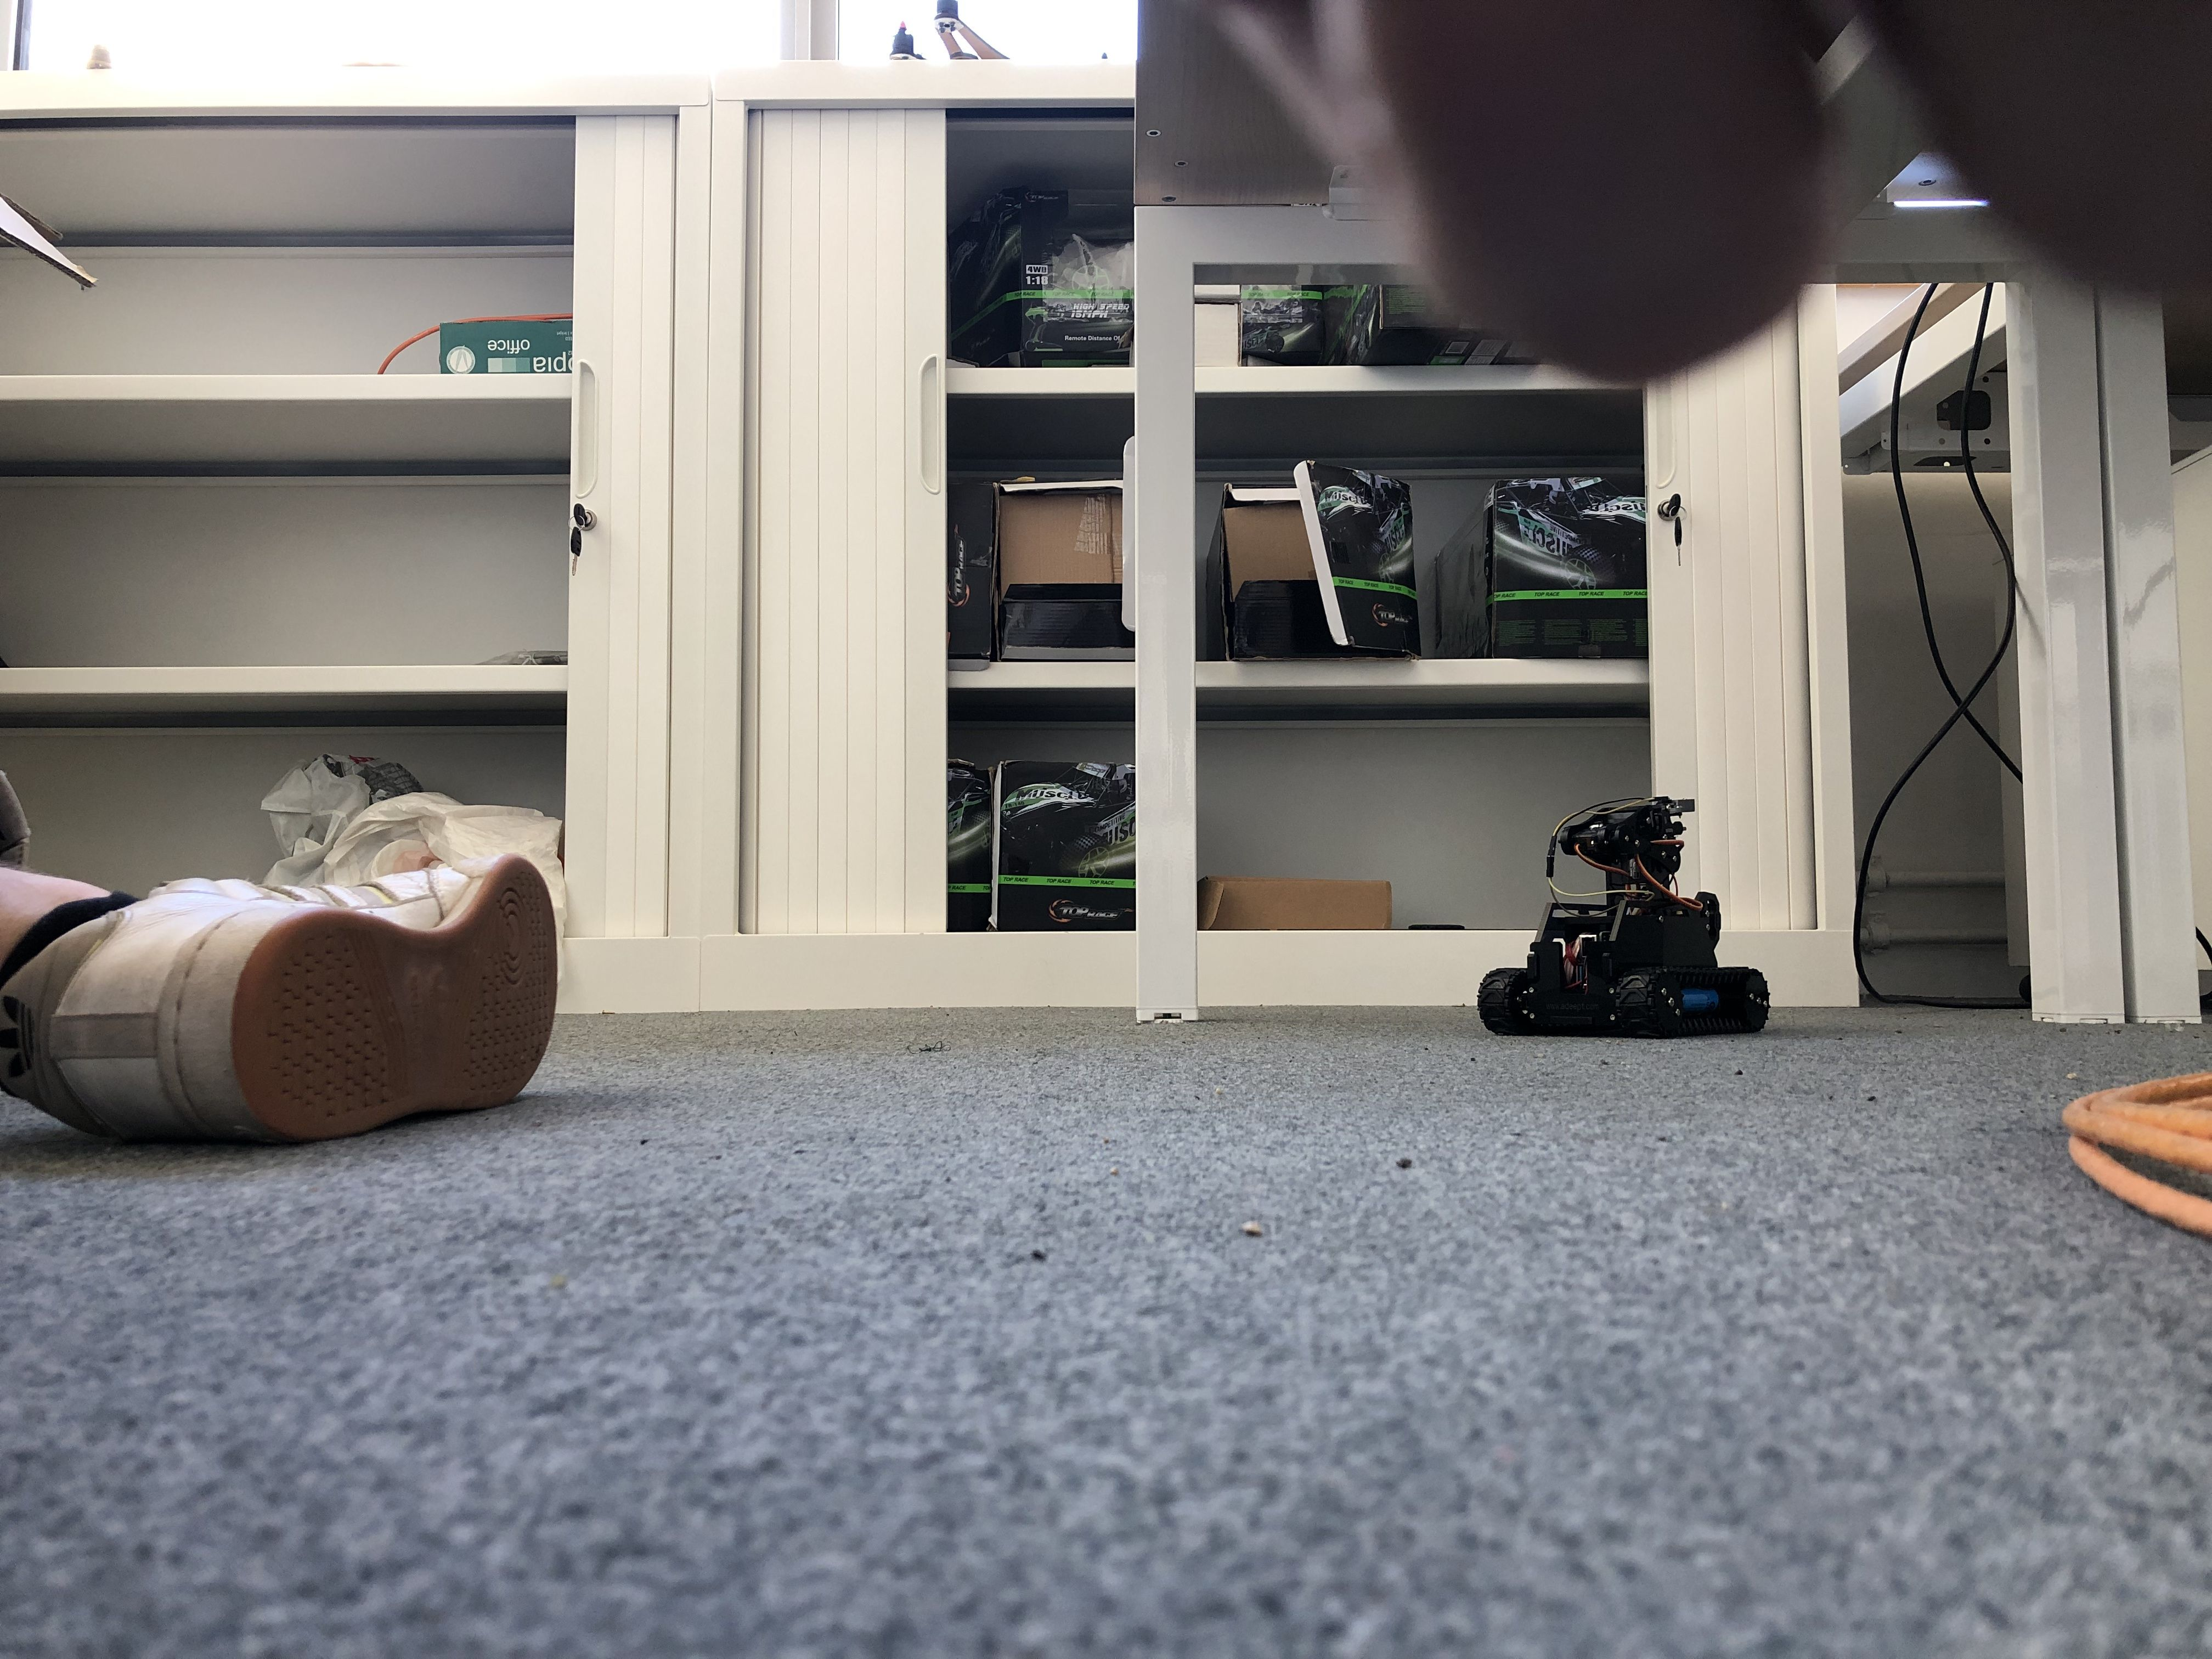rasptank: (1474, 786, 1778, 1039)
